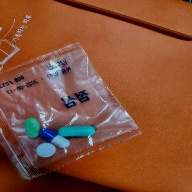러키펜정: (36, 143, 55, 159)
씨엠지세파클러캡슐: (39, 128, 70, 149)
에르도캡슐: (58, 126, 96, 138)
휴티렌정: (24, 118, 42, 139)
